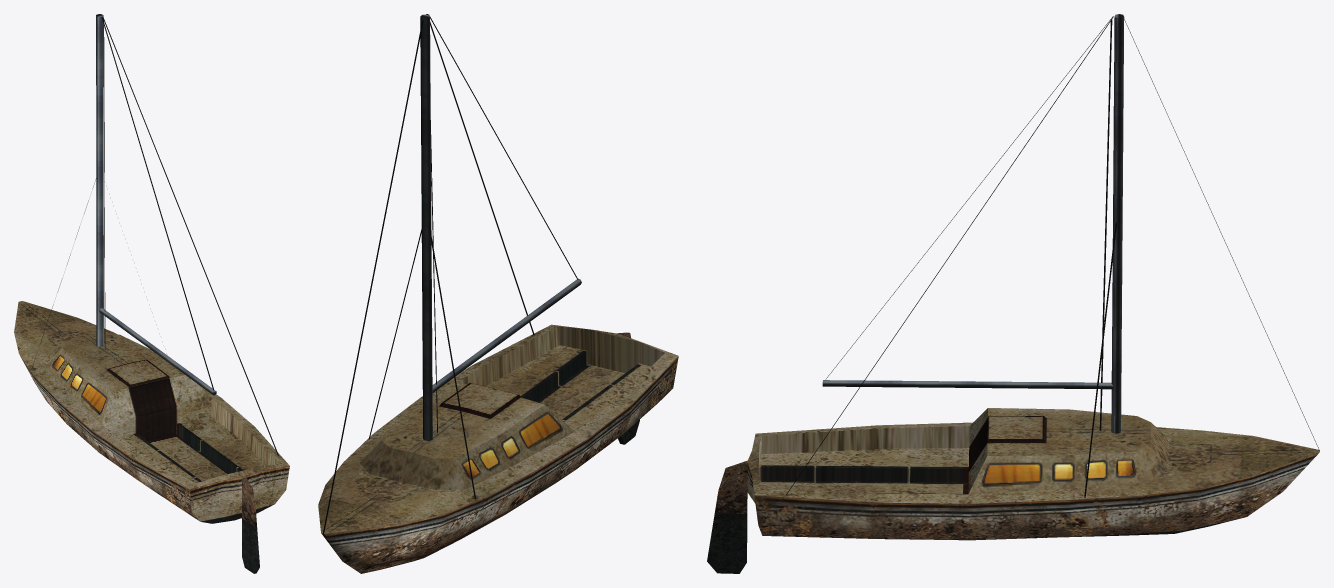
File: premium.gltf
The picture shows the model from 3 angles, left to right: view 1: azimuth 30°, elevation 25°; view 2: azimuth 150°, elevation 25°; view 3: azimuth 270°, elevation 25°; orthographic projection. The views are drawn at different scales.
Parts seen in each view (by area): view 1: boat; view 2: boat; view 3: boat.
Boxes of the visible parts, x1,y1,x2,y2 form: boat: (14,14,289,573); boat: (318,14,678,573); boat: (707,14,1319,573).
Bounding box in the file's own units: 1.4 × 4.51 × 4.48.
1 material, 1 textured.
